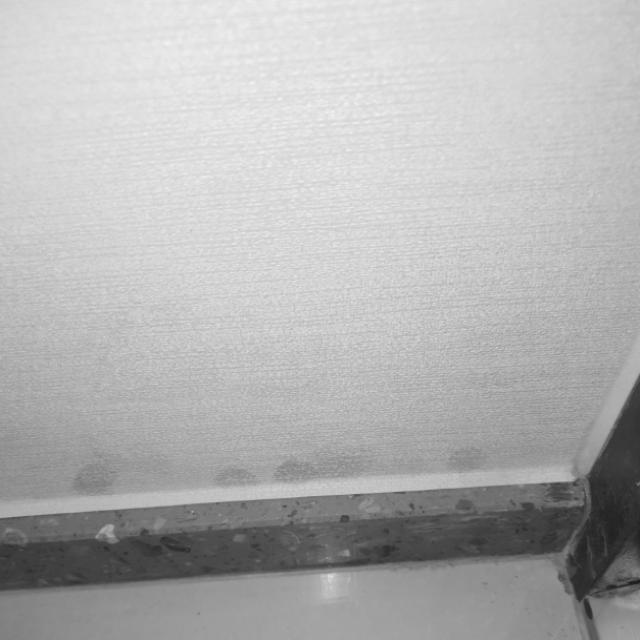stain marks: (209, 438, 504, 484), (66, 438, 120, 497)
